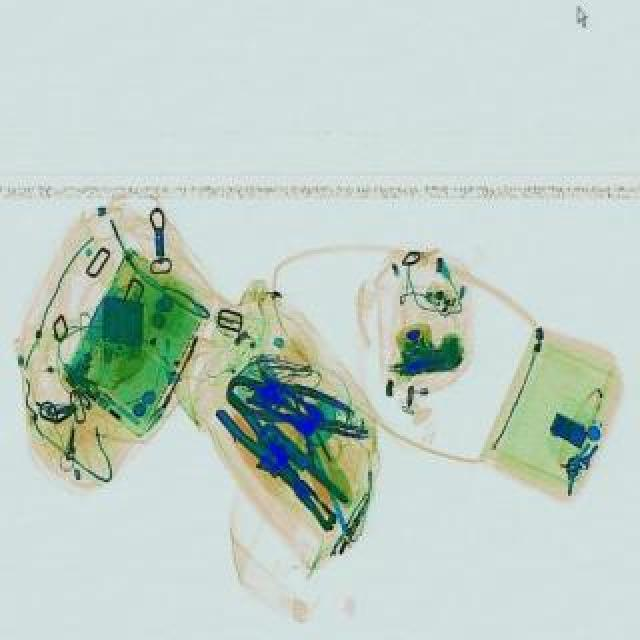wrench: (204, 386, 320, 502)
